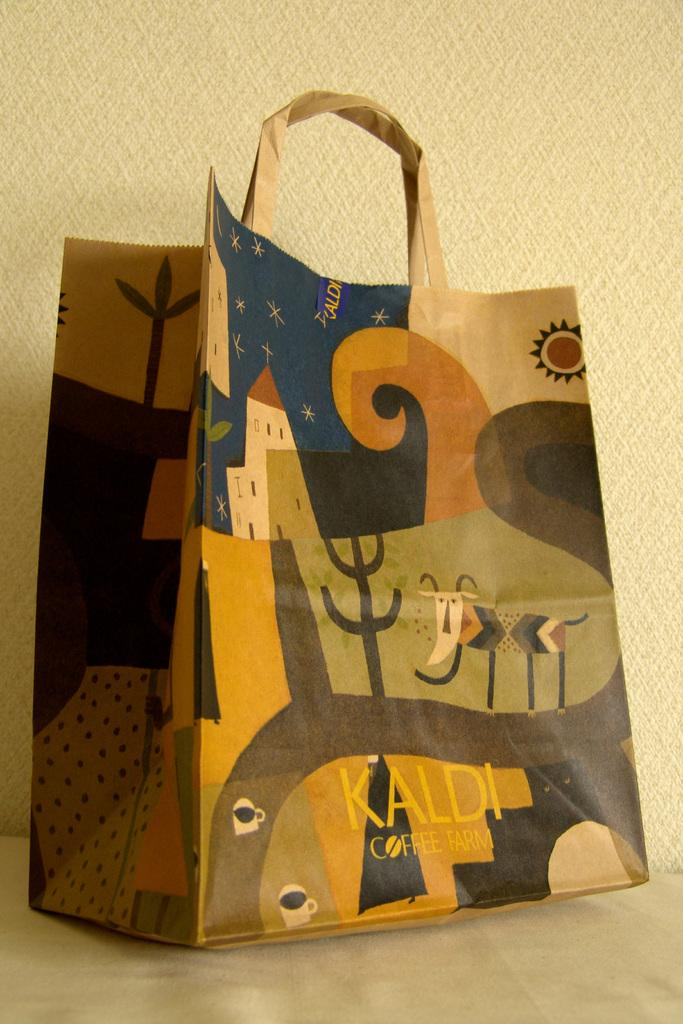Luggage-and-bags: (45, 89, 666, 948)
